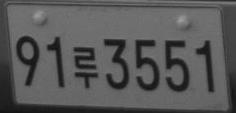1: (194, 38, 219, 93), (45, 36, 70, 87)
3: (102, 38, 130, 90)
5: (163, 39, 190, 92), (134, 38, 160, 91)
9: (14, 34, 40, 87)
루: (73, 46, 99, 89)
